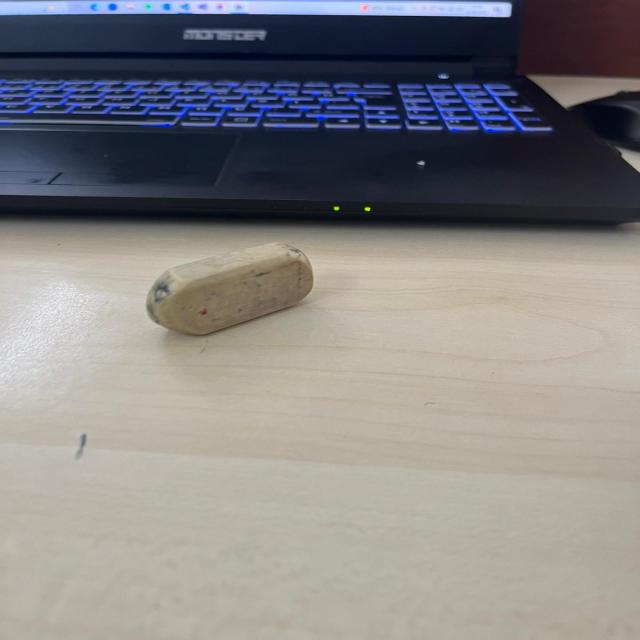eraser: (133, 235, 322, 346)
